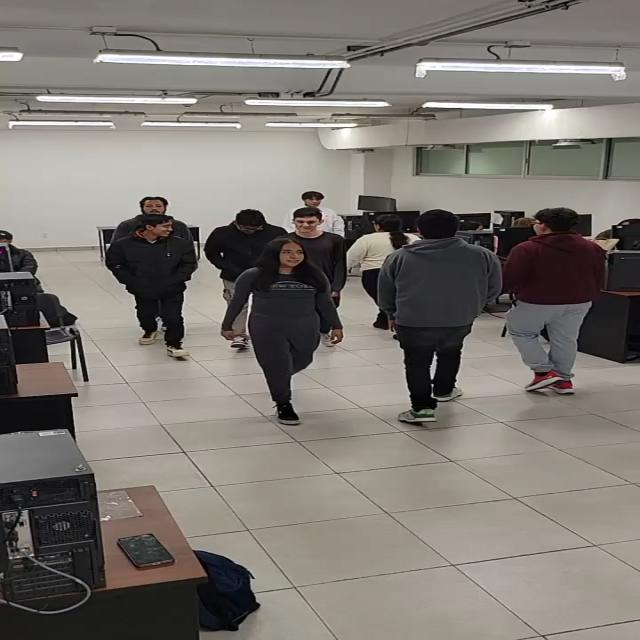Persona: (228, 236, 340, 416), (400, 208, 484, 416), (508, 205, 590, 395), (104, 214, 213, 356), (356, 203, 412, 312), (288, 205, 365, 282), (210, 209, 274, 268), (131, 187, 197, 217), (293, 186, 352, 210)
